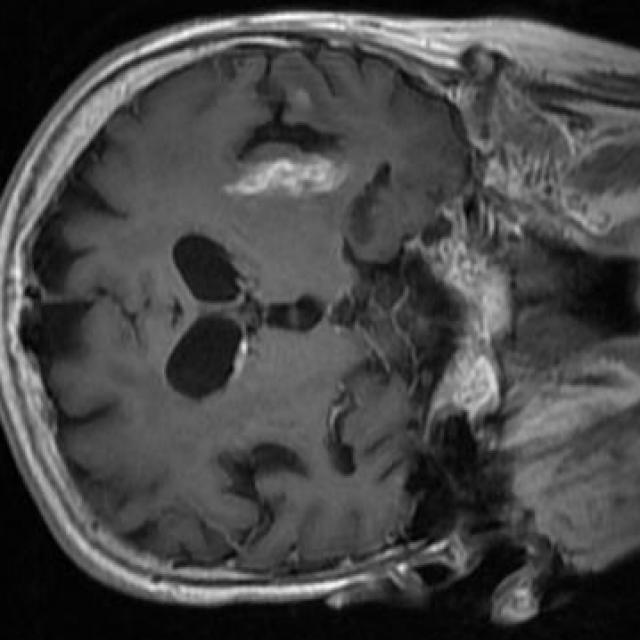glioma: (223, 150, 348, 194)
